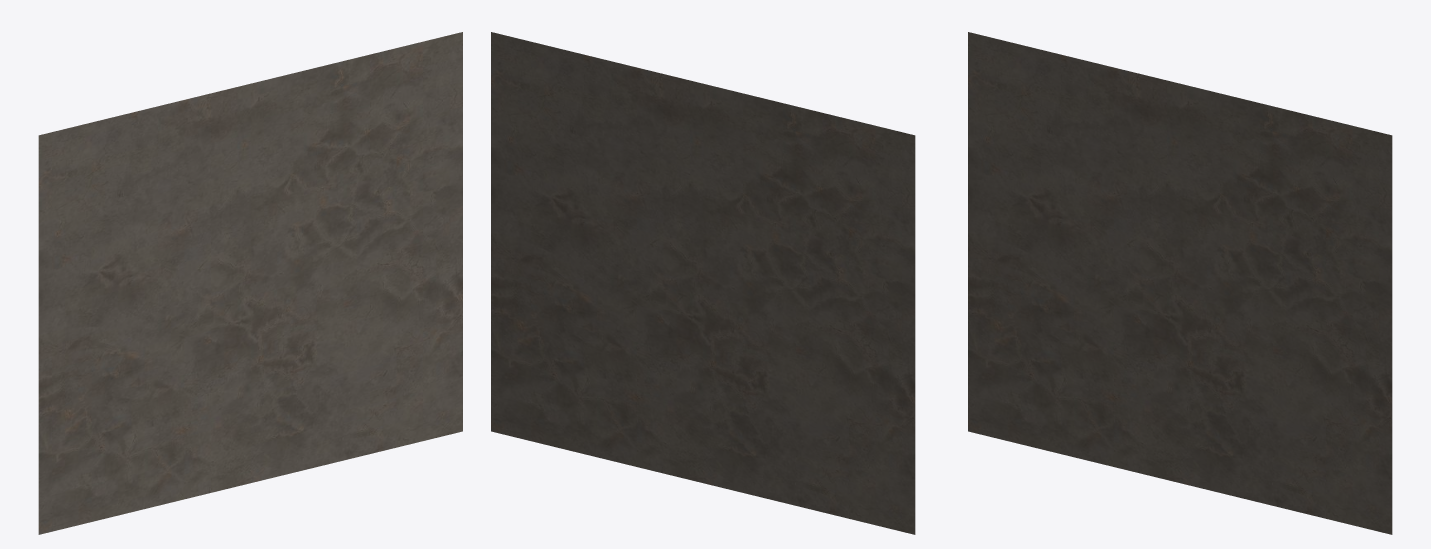
File: SM_Crypt_Wall_Plaster.glb
The picture shows the model from 3 angles, left to right: view 1: azimuth 30°, elevation 25°; view 2: azimuth 150°, elevation 25°; view 3: azimuth 330°, elevation 25°; orthographic projection.
Parts seen in each view (by area): view 1: SM_Crypt_Wall_Plaster; view 2: SM_Crypt_Wall_Plaster; view 3: SM_Crypt_Wall_Plaster.
Part boxes in pixels (box(x1,y1,x2,y2)): SM_Crypt_Wall_Plaster: box(38, 32, 462, 534); SM_Crypt_Wall_Plaster: box(491, 32, 915, 534); SM_Crypt_Wall_Plaster: box(968, 32, 1392, 534).
Bounding box in the file's own units: 5 × 4.5 × 0.5.
Materials: 1 (1 with a texture image).
